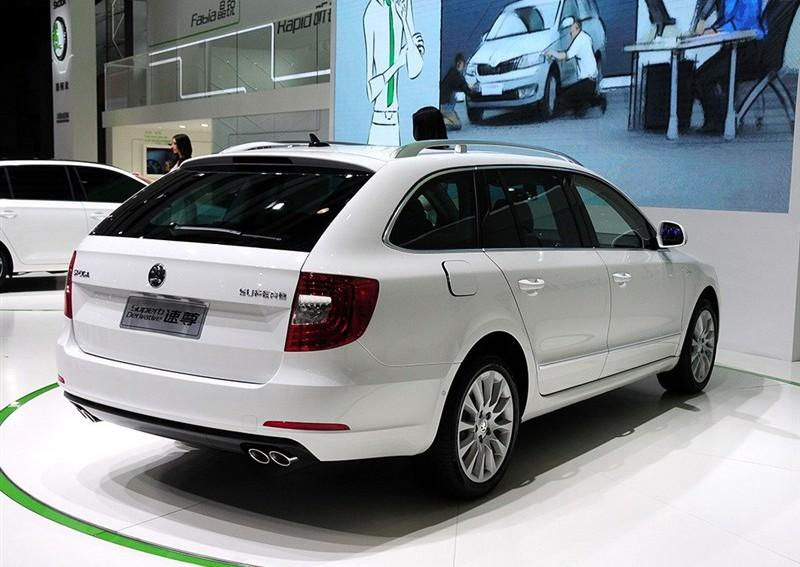Wagon: (52, 132, 722, 502)
